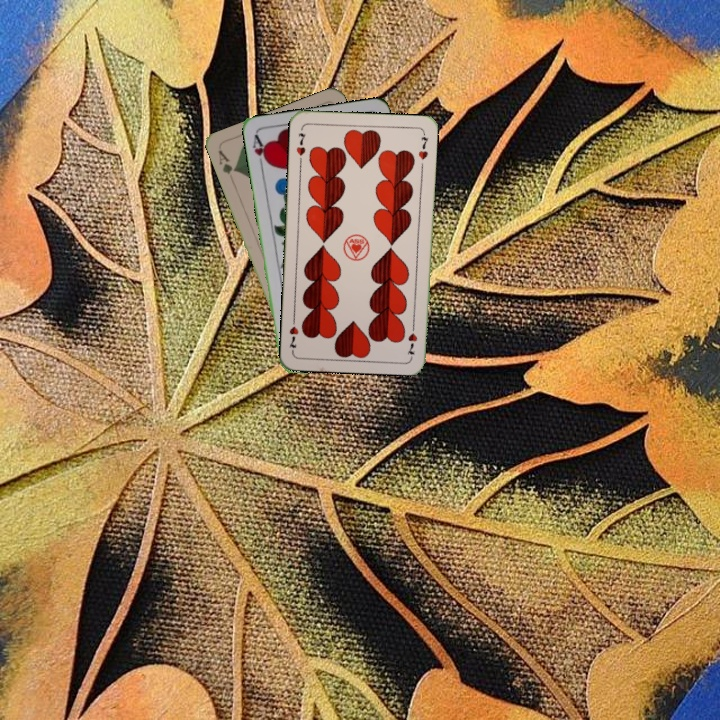GA: (214, 146, 239, 177)
H7: (404, 318, 420, 359), (292, 129, 308, 166)
HA: (248, 131, 271, 171)
